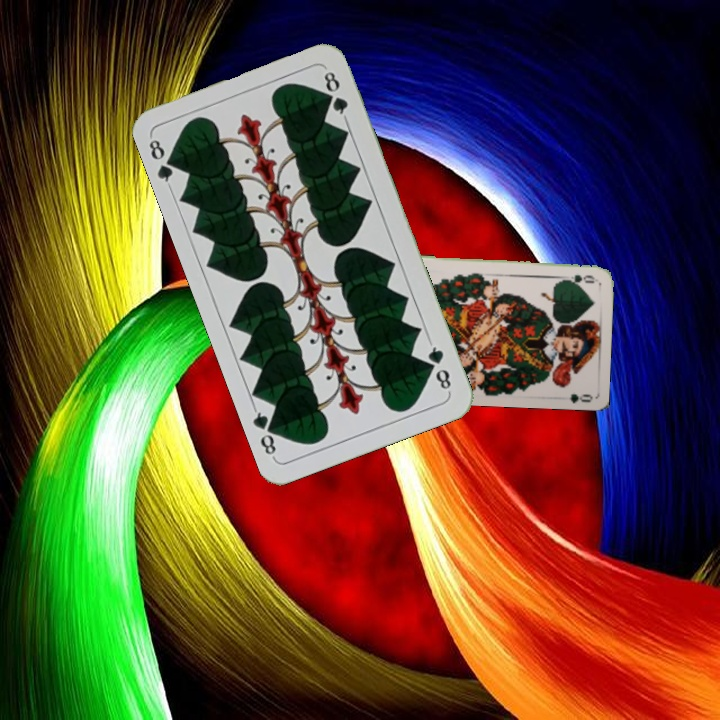G8: (144, 135, 181, 190), (423, 338, 454, 395)
GO: (557, 270, 597, 285)
